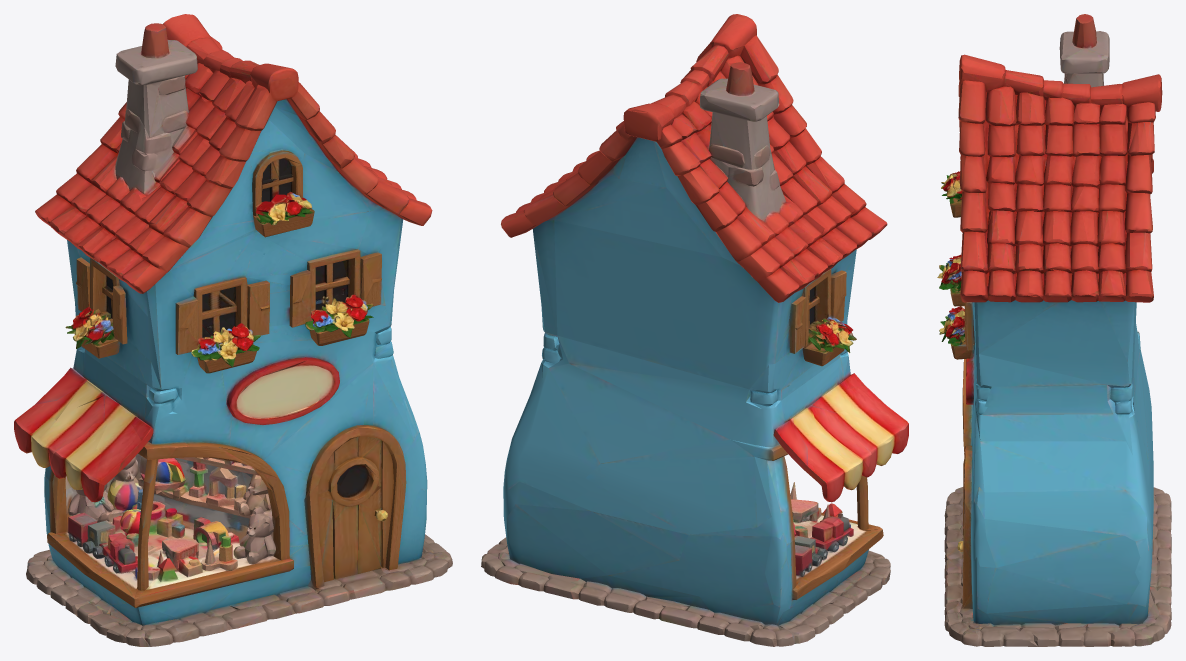
File: shop_toys.glb
3 renders of one model, left to right at view 1: azimuth 30°, elevation 25°; view 2: azimuth 150°, elevation 25°; view 3: azimuth 270°, elevation 25°, orthographic. The views are drawn at different scales.
Size of the model in its own units: 7.5 by 11 by 4.5.
1 material, 1 textured.
